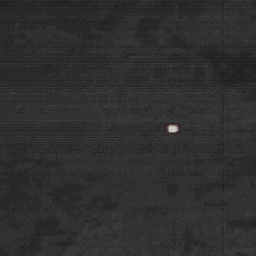Target: (167, 123, 178, 133)
